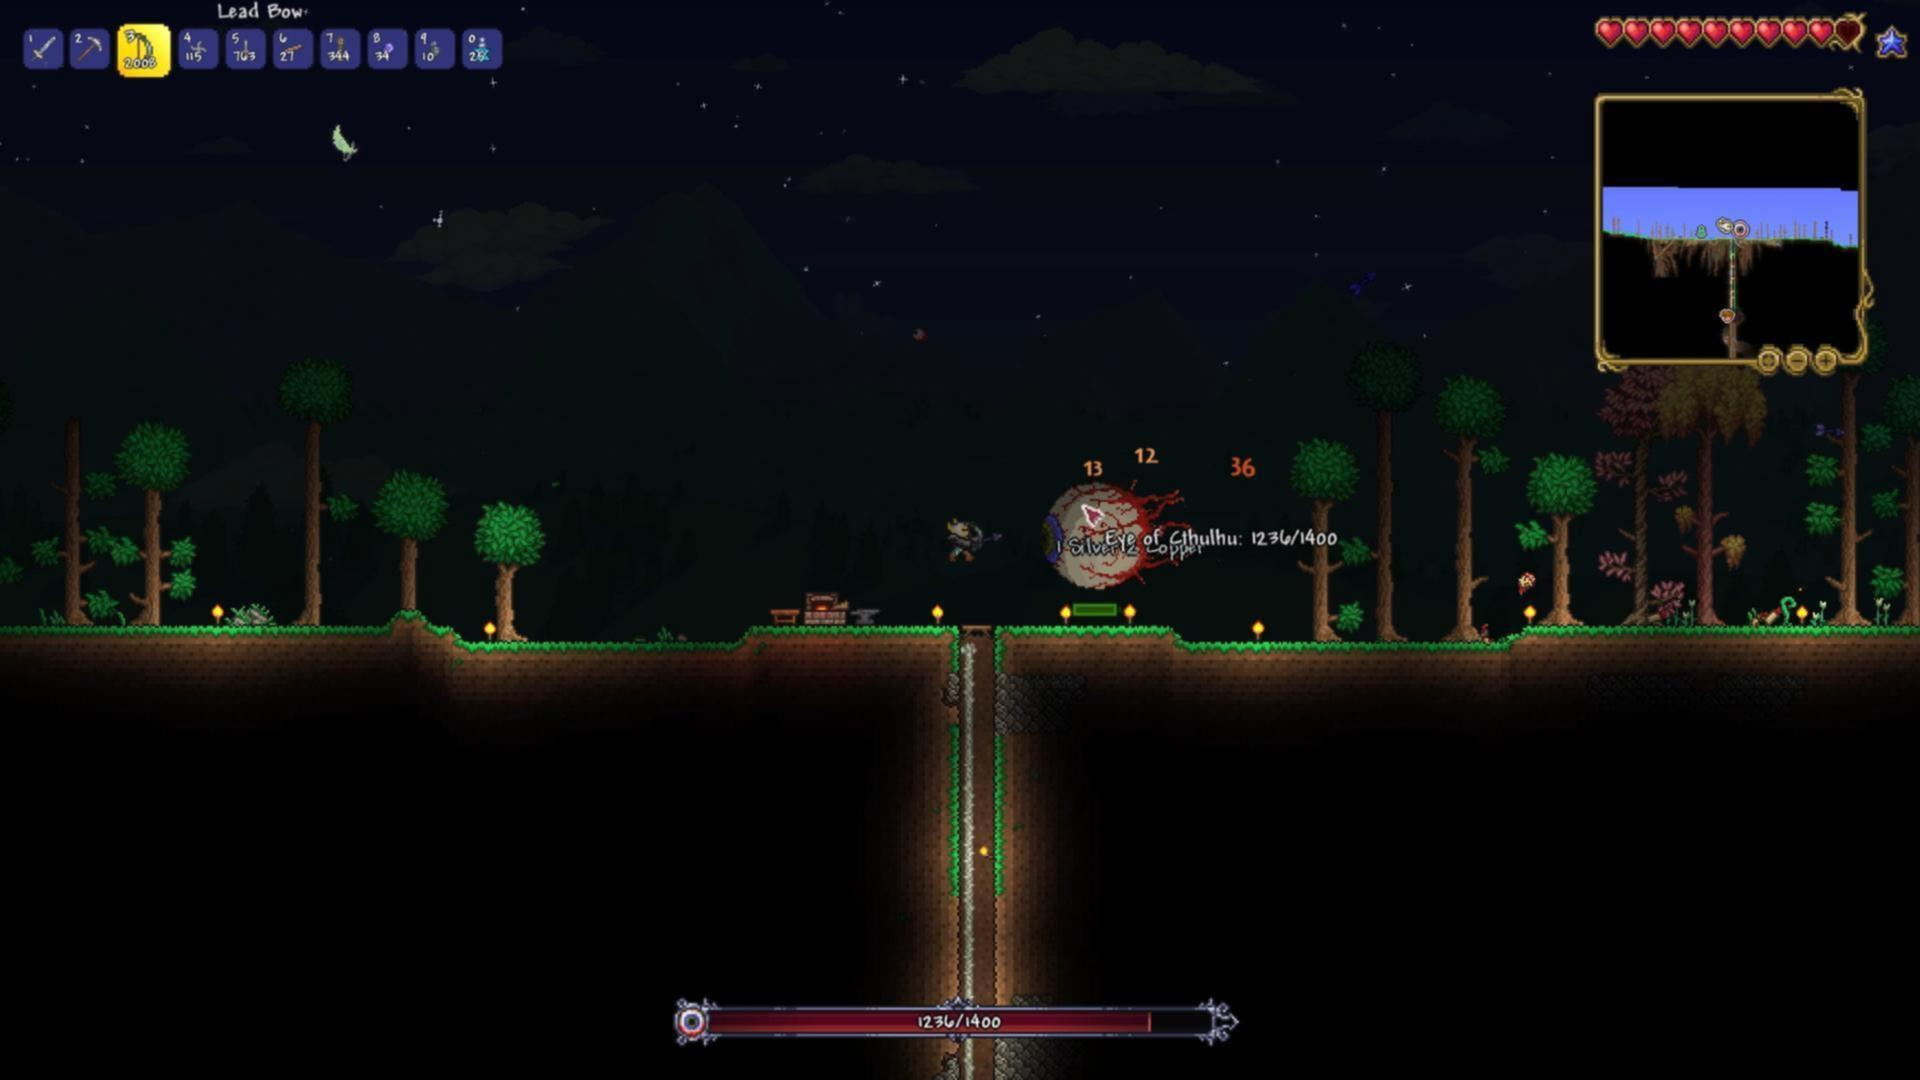anvil: (848, 601, 881, 628)
bow: (133, 28, 154, 67)
eyeC: (1026, 469, 1207, 593)
furnace: (803, 585, 852, 625)
grenade: (430, 40, 440, 58)
knife: (241, 38, 252, 59)
pickaxe: (75, 34, 107, 69)
platform: (961, 617, 996, 637), (280, 38, 305, 55)
recallP: (473, 34, 495, 63)
rope: (334, 32, 347, 65)
ropeT: (960, 1038, 978, 1080)
shuriken: (189, 38, 206, 55)
workbench: (769, 601, 804, 625)
